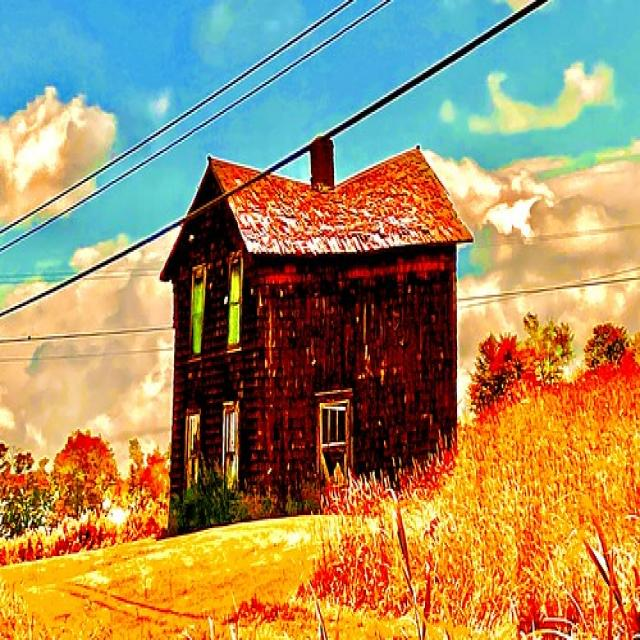Normal_building: (158, 136, 478, 536)
